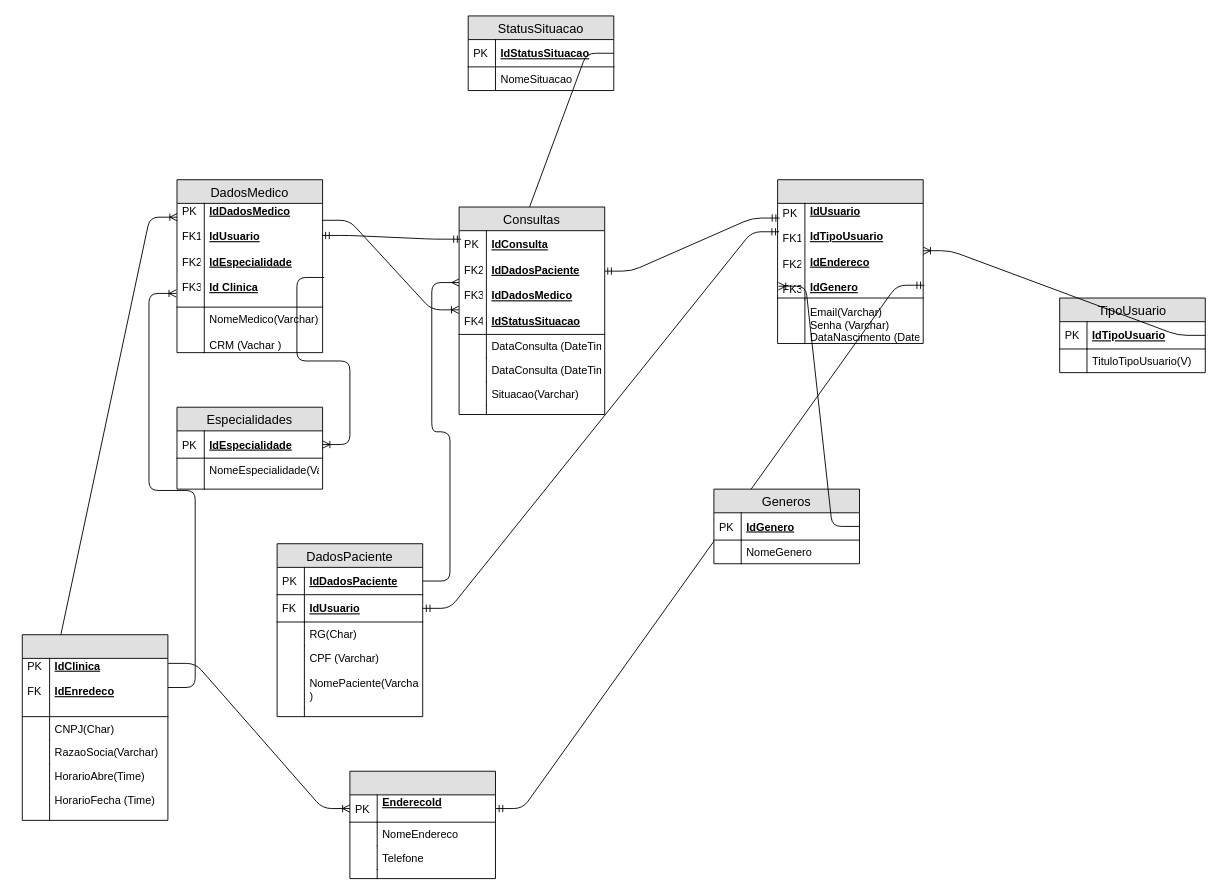
This 1229x895 diagram has some shape labels left out. The box of each missing label's shape, as (x1, y1, x2, y2) in pixels:
Clinicas: (21, 634, 168, 820)
Enderecos: (349, 770, 495, 879)
Usuarios: (777, 179, 923, 344)
